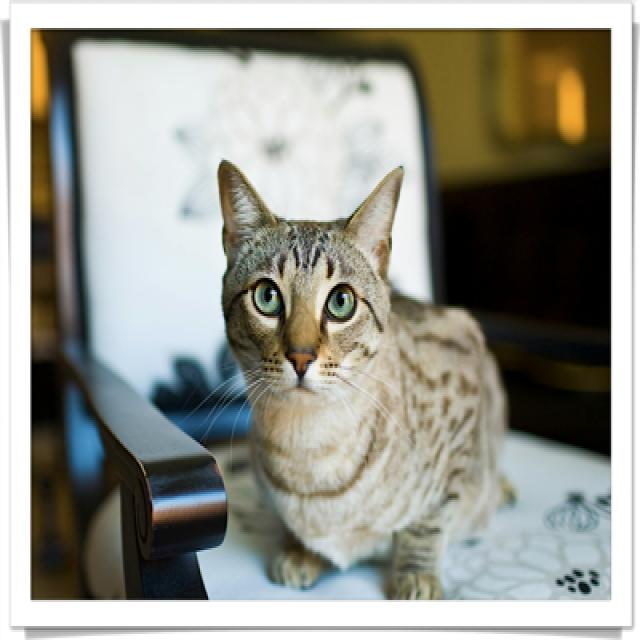cat: (216, 158, 402, 404)
